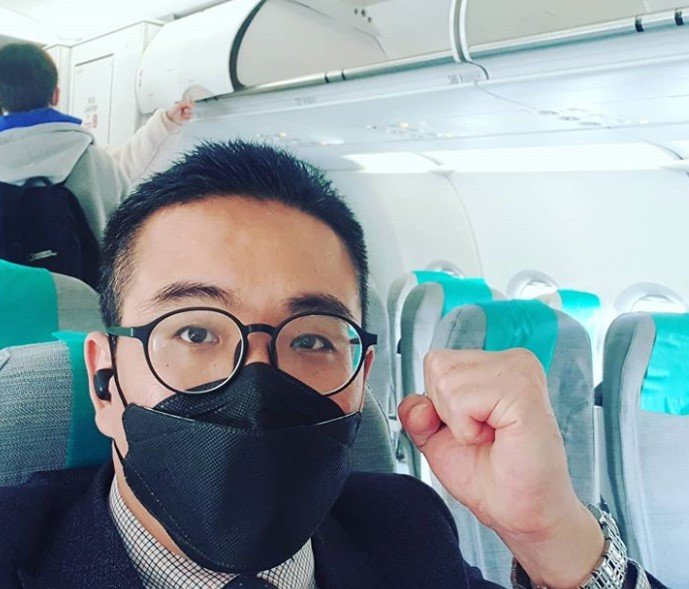face_with_mask: (84, 155, 382, 576)
